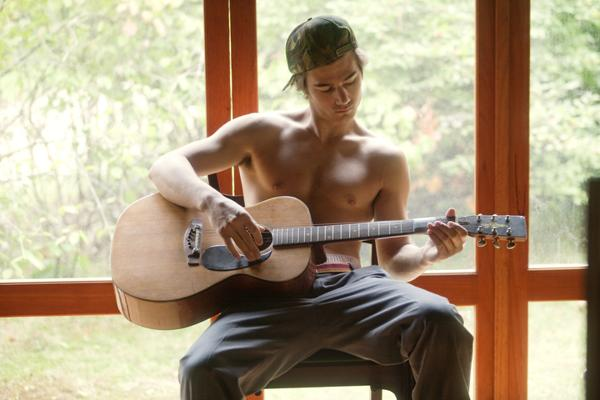person: (148, 16, 475, 400)
